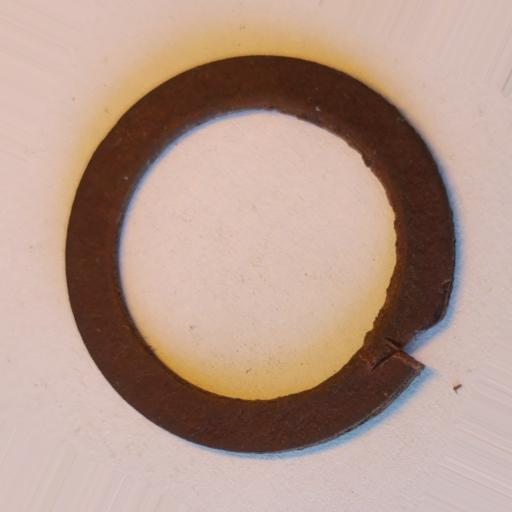defect: (371, 317, 443, 372)
